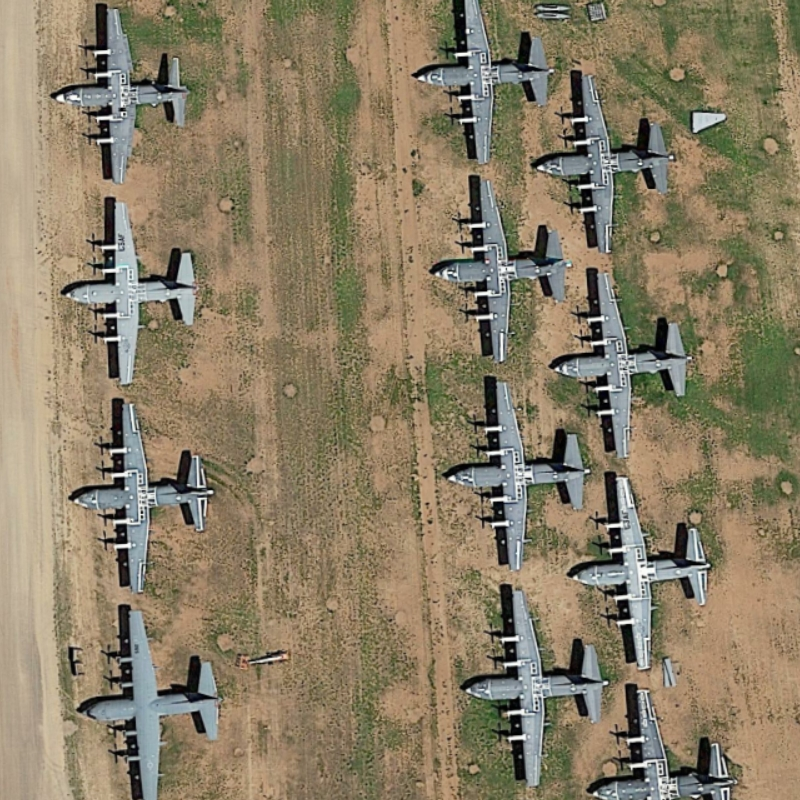A2: (60, 393, 226, 599), (463, 583, 614, 792), (53, 196, 212, 392), (73, 601, 228, 800), (443, 368, 591, 575), (570, 471, 721, 671), (526, 68, 682, 255), (428, 172, 576, 369), (549, 267, 695, 465), (44, 4, 199, 190), (403, 1, 550, 167)
